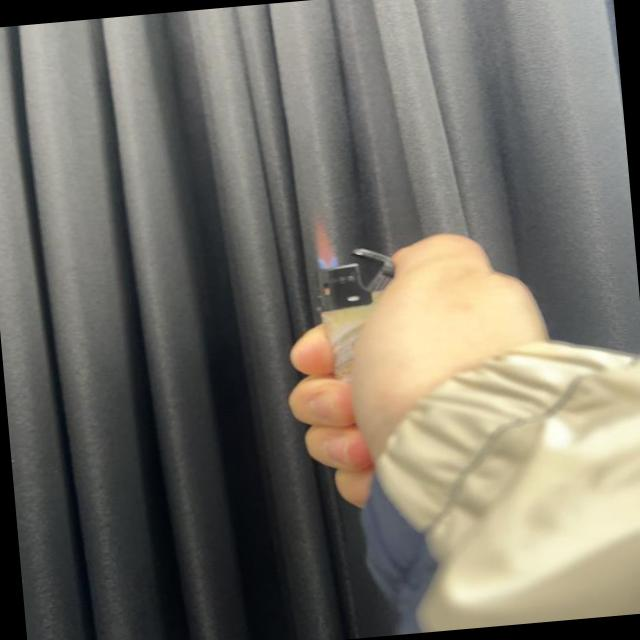Fire: (308, 204, 341, 270)
